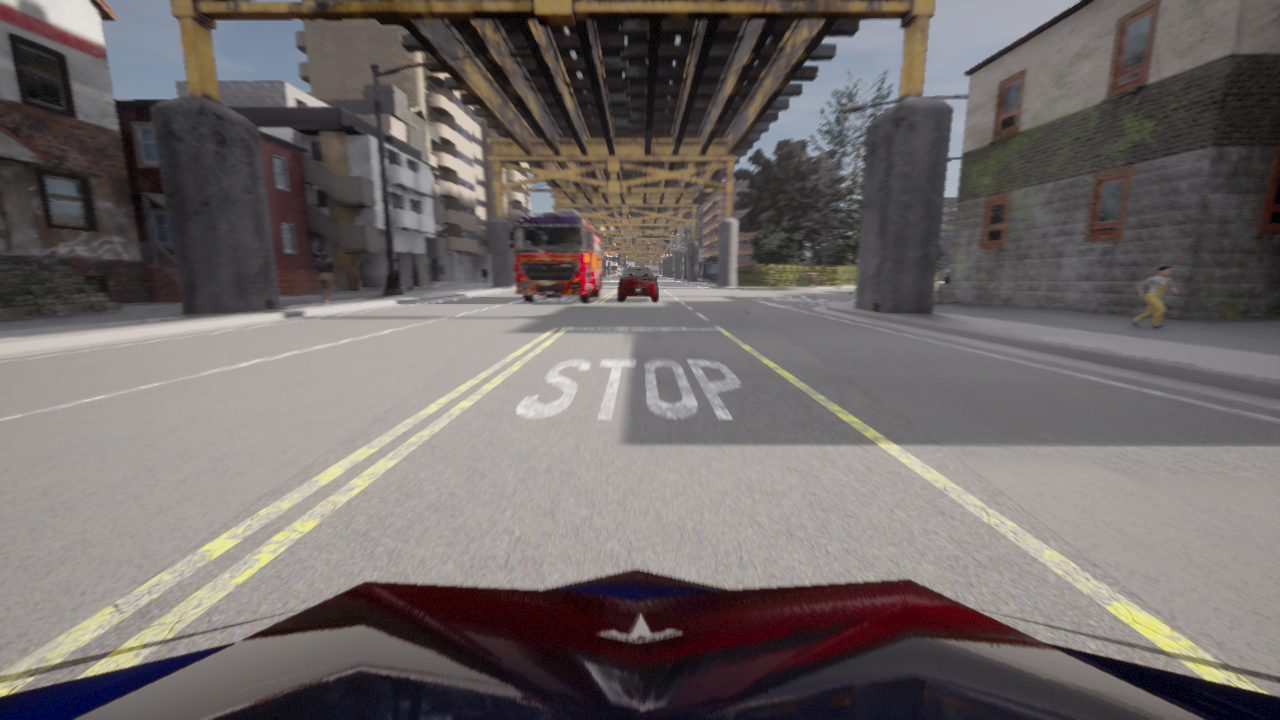cyclist: (0, 569, 1279, 719), (509, 210, 601, 302), (618, 268, 657, 301)
pedestrian: (1131, 265, 1178, 328), (314, 250, 339, 305), (482, 265, 489, 286)
